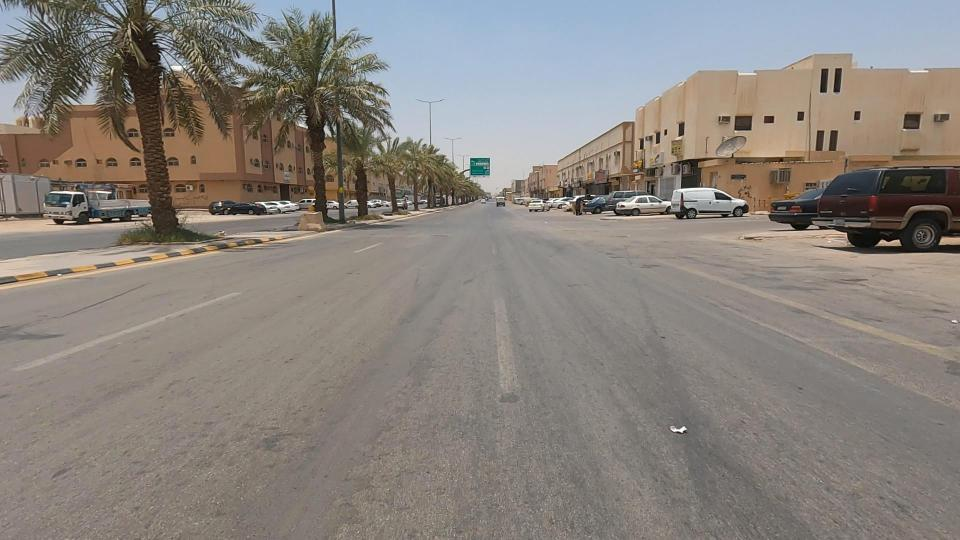GARBAGE: (635, 403, 719, 453)
